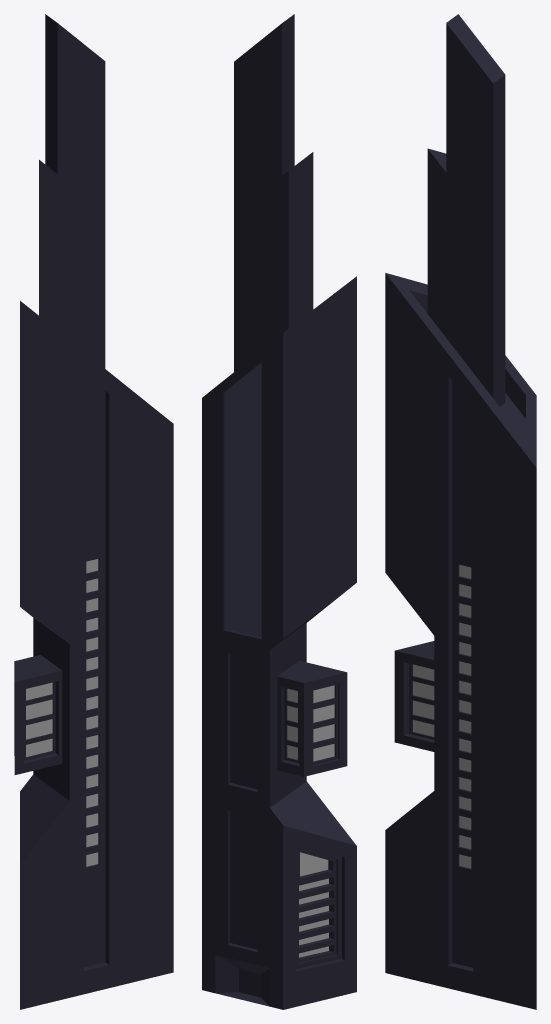
The model's file is bld001.obj.
3 renders of one model, left to right at view 1: azimuth 30°, elevation 25°; view 2: azimuth 150°, elevation 25°; view 3: azimuth 330°, elevation 25°, orthographic. The views are drawn at different scales.
Visible parts, largest first — view 1: building_001_Circle.001; view 2: building_001_Circle.001; view 3: building_001_Circle.001.
Boxes of the visible parts, box(x1,y1,x2,y2) form: building_001_Circle.001: box(14, 14, 173, 1009); building_001_Circle.001: box(202, 14, 356, 1009); building_001_Circle.001: box(385, 14, 536, 1009).
Size of the model in its own units: 20.02 by 120 by 8.23.
